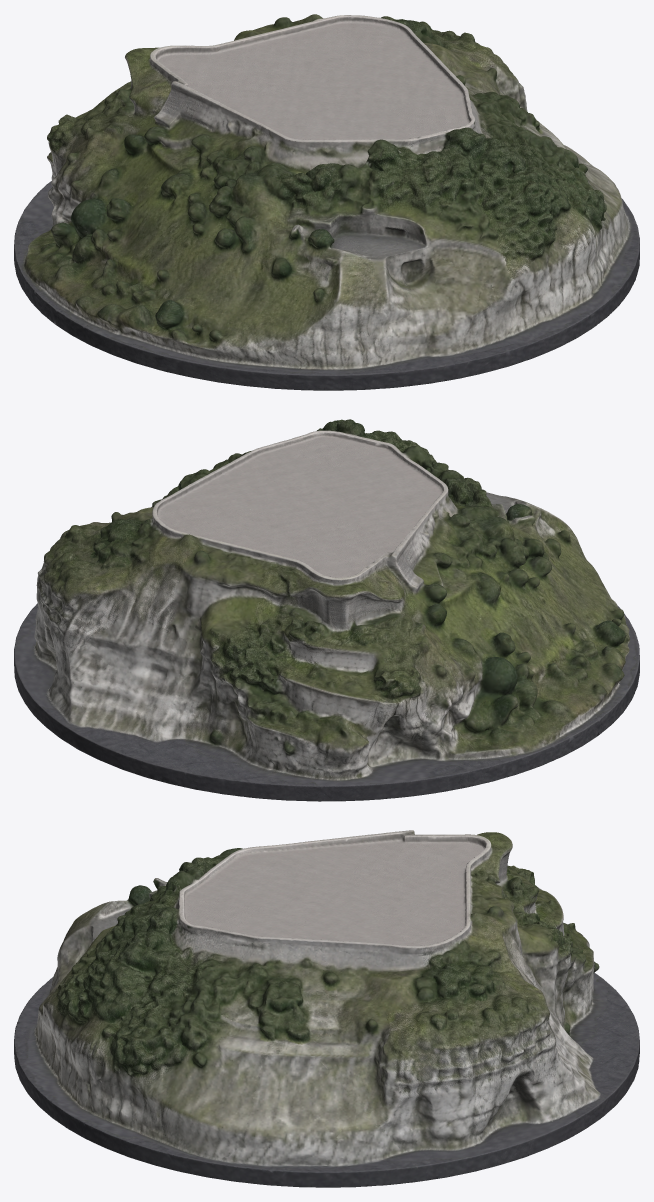
File: Meshy_AI_Cliff_Platform_0915124421_texture.fbx
3 renders of one model, top to bottom at view 1: azimuth 30°, elevation 25°; view 2: azimuth 150°, elevation 25°; view 3: azimuth 270°, elevation 25°, orthographic.
Visible parts, largest first — view 1: Mesh_0; view 2: Mesh_0; view 3: Mesh_0.
Boxes of the visible parts, x1,y1,x2,y2 form: Mesh_0: (14, 14, 639, 390); Mesh_0: (14, 419, 639, 801); Mesh_0: (14, 830, 639, 1187).
Bounding box in the file's own units: 190 × 58.38 × 190.
Materials: 1 (1 with a texture image).
